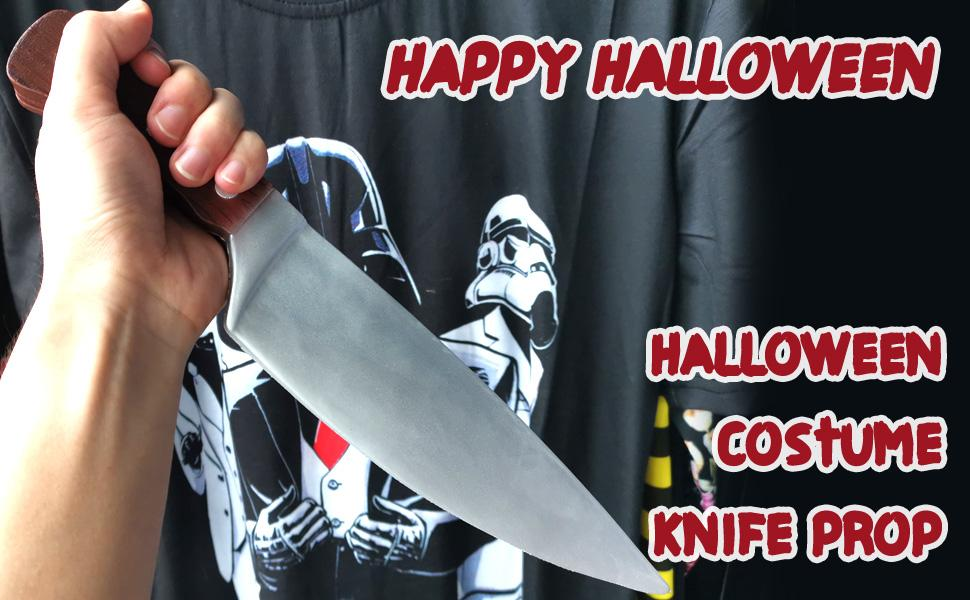Knife: (0, 0, 970, 600), (6, 9, 672, 599), (32, 2, 268, 325)
